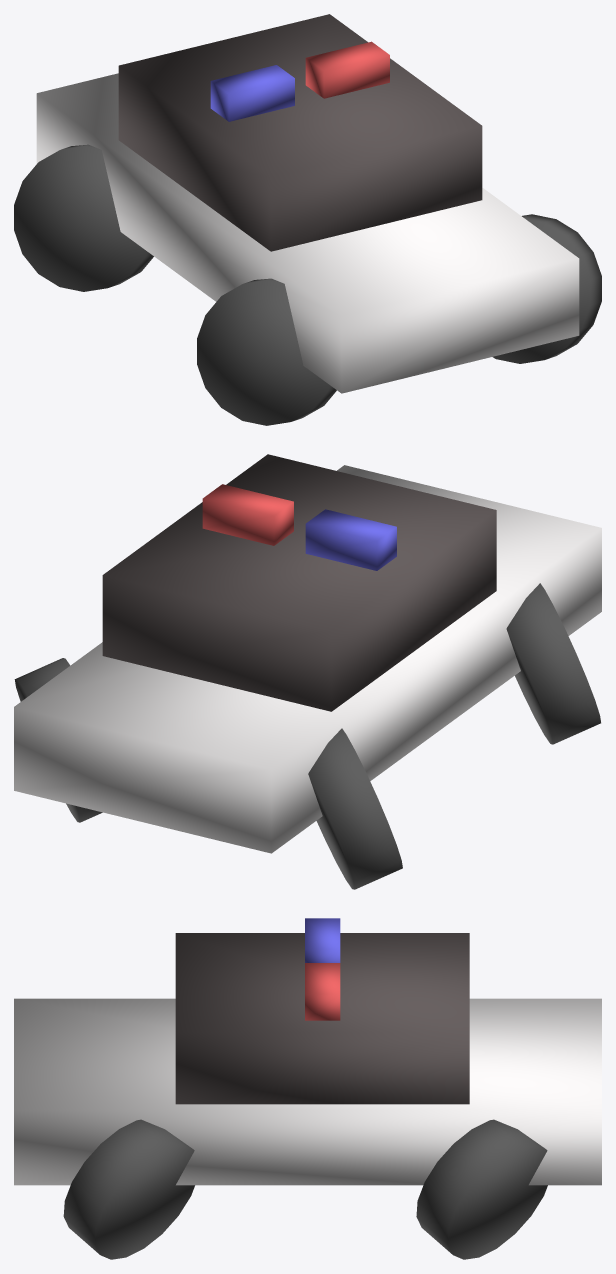
Rendered from police_car.glb.
3 renders of one model, top to bottom at view 1: azimuth 30°, elevation 25°; view 2: azimuth 150°, elevation 25°; view 3: azimuth 270°, elevation 25°, orthographic. The views are drawn at different scales.
Visible parts, largest first — view 1: body, cabin, pw_-0.48_-0.6, pw_-0.48_0.6, pw_0.48_0.6, siren_r, siren_b; view 2: body, cabin, pw_-0.48_-0.6, pw_-0.48_0.6, siren_r, siren_b, pw_0.48_-0.6; view 3: body, cabin, pw_0.48_0.6, pw_0.48_-0.6, siren_r, siren_b.
Part boxes in pixels (x1,y1,x2,y2): body: (36,73,579,393); cabin: (118,14,482,251); pw_-0.48_-0.6: (14,144,153,291); pw_-0.48_0.6: (197,278,336,425); pw_0.48_0.6: (493,214,601,363); siren_r: (305,41,389,98); siren_b: (210,65,294,121); body: (14,465,601,853); cabin: (102,454,496,711); pw_-0.48_-0.6: (308,728,402,889); pw_-0.48_0.6: (506,583,600,744); siren_r: (202,484,293,545); siren_b: (305,509,396,570); pw_0.48_-0.6: (14,658,102,822); body: (14,998,601,1185); cabin: (175,933,469,1104); pw_0.48_0.6: (63,1119,194,1259); pw_0.48_-0.6: (416,1119,547,1259); siren_r: (305,963,340,1020); siren_b: (305,918,340,962).
Bounding box in the file's own units: 1.42 × 0.9021 × 2.
